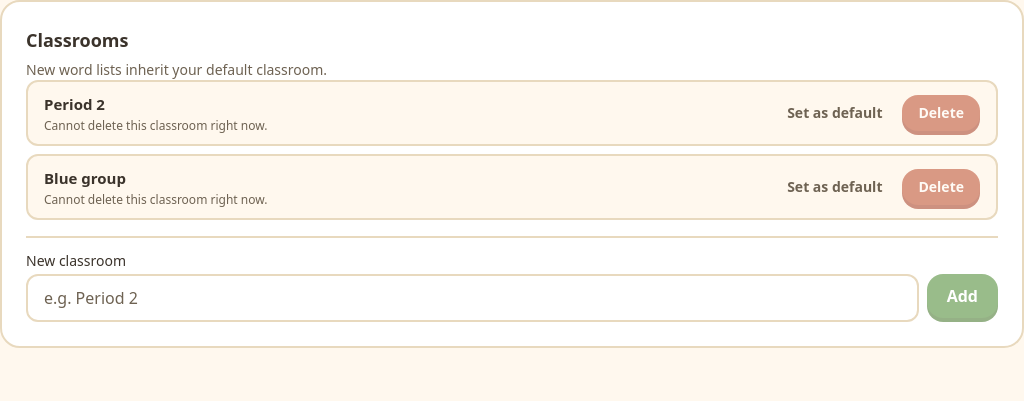
Test: ProfileClassesSection › shows an error and reverts when saving the default fails
This screenshot has width=1024, height=401.
Check: the text "Period 2" is shown, box top-left (44, 94), bottom-right (105, 114)
Click the button "Set as default" in the row of "Period 2" at (835, 113), box top-left (771, 95), bottom-right (898, 131)
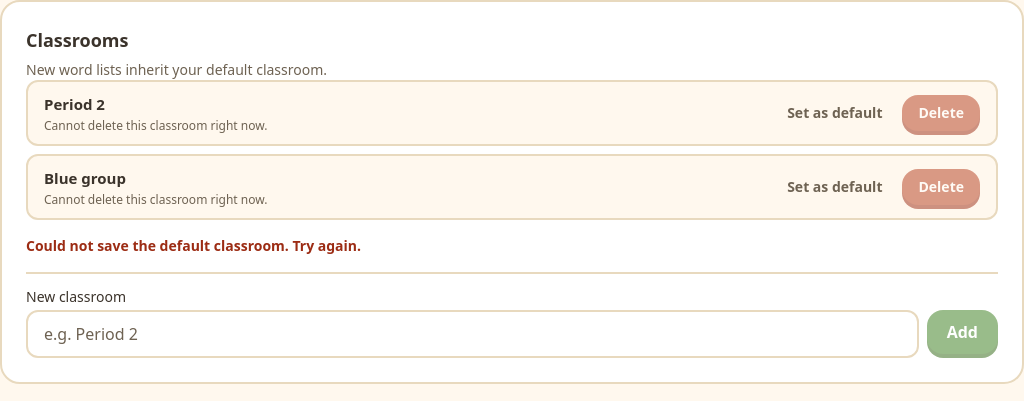
Check: the message reads "Could not save the default classroom. Try again.", box top-left (26, 236), bottom-right (361, 255)
